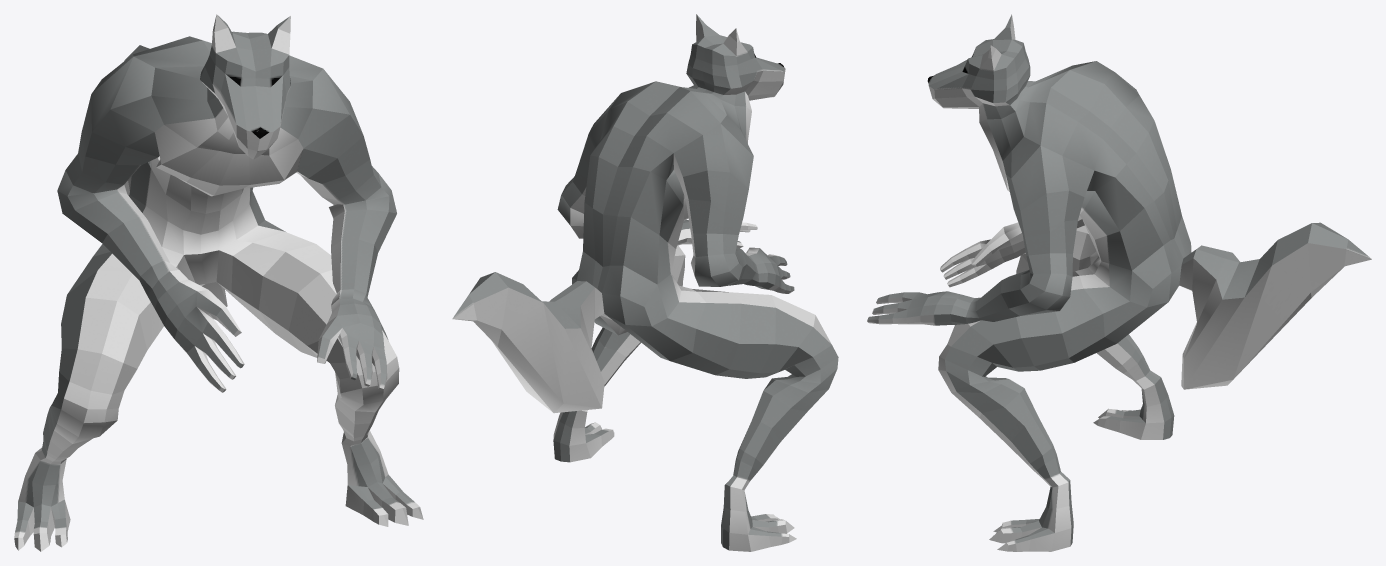
File: WolfAttack(111).obj
3 renders of one model, left to right at view 1: azimuth 30°, elevation 25°; view 2: azimuth 150°, elevation 25°; view 3: azimuth 270°, elevation 25°, orthographic. The views are drawn at different scales.
Parts seen in each view (by area): view 1: Box001; view 2: Box001; view 3: Box001.
Boxes of the visible parts, left/top/right/bottom form: Box001: left=14, top=14, right=423, bottom=551; Box001: left=452, top=14, right=838, bottom=551; Box001: left=867, top=14, right=1371, bottom=551.
Bounding box in the file's own units: 76.9 × 119 × 118.
